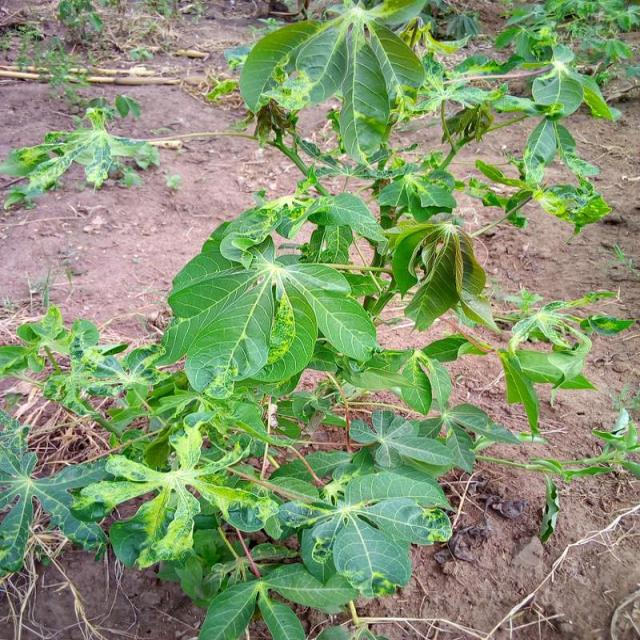cassava leaf: (156, 196, 379, 399), (238, 0, 426, 169)
